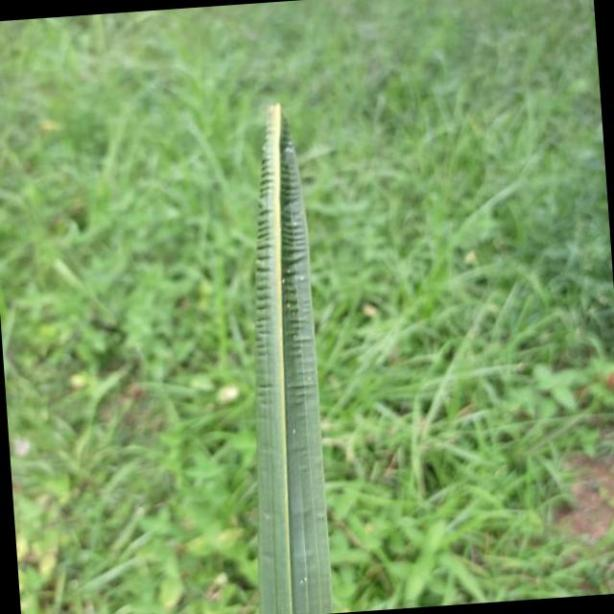Boron: (254, 99, 331, 614)
